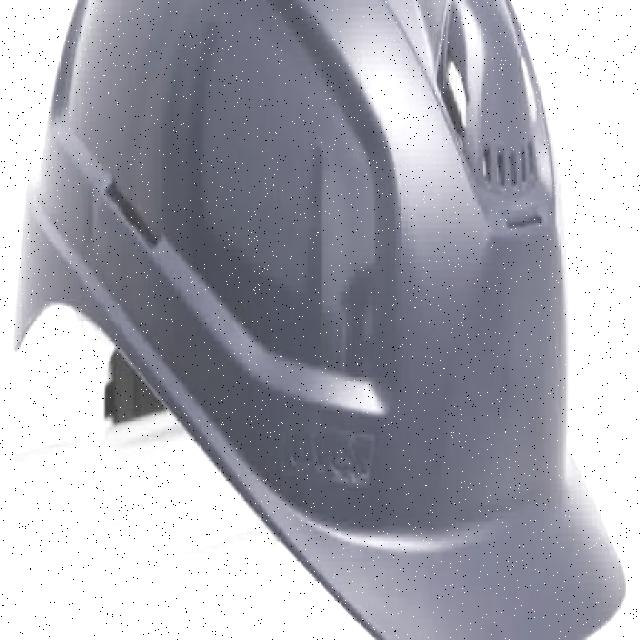Helmet: (9, 0, 629, 638)
